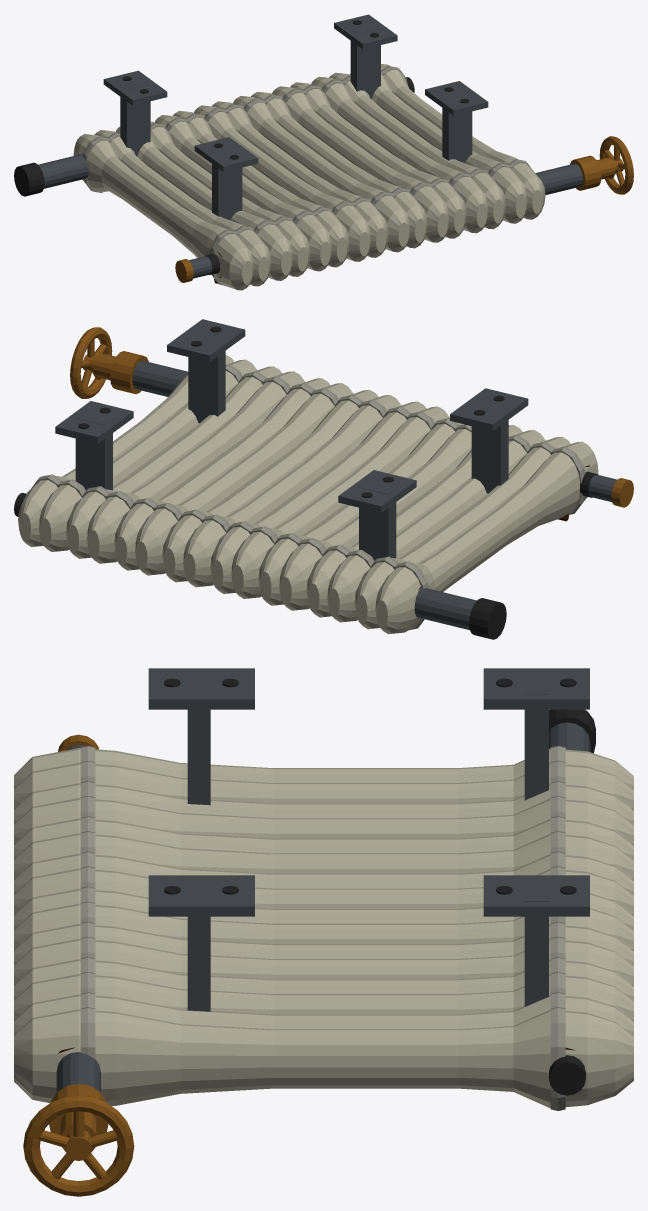
File: SM_ApartmentRadiator_2026_LOD0.obj
The picture shows the model from 3 angles, top to bottom: view 1: azimuth 30°, elevation 25°; view 2: azimuth 150°, elevation 25°; view 3: azimuth 270°, elevation 25°; orthographic projection. The views are drawn at different scales.
Parts seen in each view (by area): view 1: cast_section_0_vertical, cast_section_5_vertical, cast_section_4_vertical, cast_section_6_vertical, cast_section_3_vertical, cast_section_1_vertical, cast_section_2_vertical, cast_section_7_vertical, raised_mold_seam, wall_bracket_lower_arm, wall_bracket_upper_arm, wall_anchor_backplate (+6 smaller); view 2: cast_section_0_vertical, cast_section_5_vertical, cast_section_4_vertical, cast_section_6_vertical, cast_section_3_vertical, cast_section_2_vertical, cast_section_1_vertical, cast_section_7_vertical, raised_mold_seam, wall_bracket_upper_arm, wall_bracket_lower_arm, wall_anchor_backplate (+10 smaller); view 3: cast_section_7_vertical, cast_section_2_vertical, cast_section_1_vertical, cast_section_0_vertical, cast_section_5_vertical, cast_section_6_vertical, cast_section_4_vertical, cast_section_3_vertical, raised_mold_seam, wall_anchor_backplate, wall_anchor_lower_plate, wall_bracket_lower_arm (+9 smaller).
Boxes of the visible parts, left/top/right/bottom form: cast_section_0_vertical: left=73, top=130, right=271, bottom=290; cast_section_5_vertical: left=272, top=82, right=466, bottom=242; cast_section_4_vertical: left=233, top=91, right=427, bottom=252; cast_section_6_vertical: left=311, top=72, right=505, bottom=233; cast_section_3_vertical: left=194, top=101, right=388, bottom=261; cast_section_1_vertical: left=115, top=121, right=310, bottom=280; cast_section_2_vertical: left=154, top=111, right=349, bottom=271; cast_section_7_vertical: left=350, top=64, right=545, bottom=223; raised_mold_seam: left=83, top=66, right=530, bottom=285; wall_bracket_lower_arm: left=120, top=23, right=380, bottom=156; wall_bracket_upper_arm: left=212, top=108, right=472, bottom=220; wall_anchor_backplate: left=194, top=81, right=488, bottom=171; cast_section_0_vertical: left=354, top=437, right=598, bottom=634; cast_section_5_vertical: left=114, top=378, right=353, bottom=575; cast_section_4_vertical: left=162, top=390, right=401, bottom=587; cast_section_6_vertical: left=66, top=366, right=304, bottom=563; cast_section_3_vertical: left=210, top=401, right=449, bottom=598; cast_section_2_vertical: left=258, top=417, right=471, bottom=610; cast_section_1_vertical: left=306, top=425, right=545, bottom=622; cast_section_7_vertical: left=18, top=355, right=256, bottom=551; raised_mold_seam: left=31, top=364, right=585, bottom=630; wall_bracket_upper_arm: left=188, top=351, right=508, bottom=493; wall_bracket_lower_arm: left=75, top=412, right=396, bottom=560; wall_anchor_backplate: left=167, top=319, right=528, bottom=431; cast_section_7_vertical: left=14, top=994, right=633, bottom=1108; cast_section_2_vertical: left=14, top=818, right=633, bottom=880; cast_section_1_vertical: left=14, top=783, right=633, bottom=845; cast_section_0_vertical: left=14, top=748, right=633, bottom=810; cast_section_5_vertical: left=14, top=924, right=633, bottom=986; cast_section_6_vertical: left=14, top=959, right=633, bottom=1021; cast_section_4_vertical: left=14, top=889, right=633, bottom=951; cast_section_3_vertical: left=14, top=853, right=633, bottom=916; raised_mold_seam: left=80, top=745, right=565, bottom=1110; wall_anchor_backplate: left=148, top=668, right=254, bottom=916; wall_anchor_lower_plate: left=483, top=668, right=589, bottom=916; wall_bracket_lower_arm: left=524, top=672, right=548, bottom=1006.
Size of the model in its own units: 1.07 by 0.231 by 0.67.
